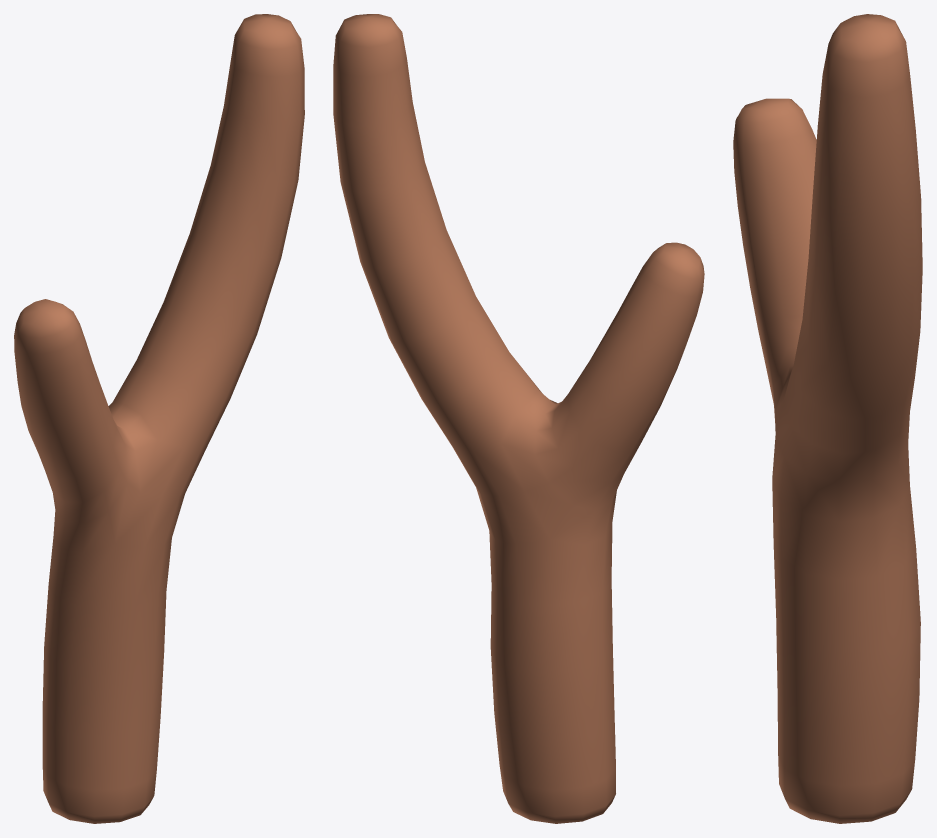
Rendered from Tree_Btm_B_03.fbx.
3 views of the same model, side by side, from view 1: azimuth 30°, elevation 25°; view 2: azimuth 150°, elevation 25°; view 3: azimuth 270°, elevation 25° (orthographic). The views are drawn at different scales.
Parts seen in each view (by area): view 1: Tree_Btm_B_03_LOD0; view 2: Tree_Btm_B_03_LOD0; view 3: Tree_Btm_B_03_LOD0.
Boxes of the visible parts, <box> form: Tree_Btm_B_03_LOD0: <box>14,14,304,823</box>; Tree_Btm_B_03_LOD0: <box>333,14,704,823</box>; Tree_Btm_B_03_LOD0: <box>733,14,922,823</box>.
Size of what is drawn, in the model's own units: 348 by 774 by 150.
